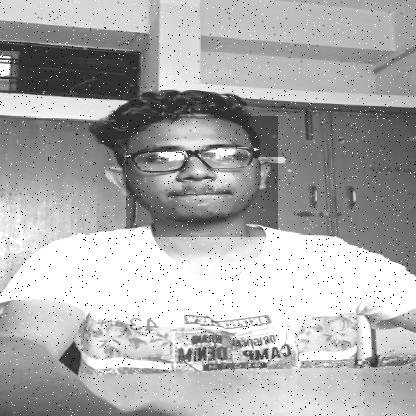Normal: (126, 116, 278, 237)
